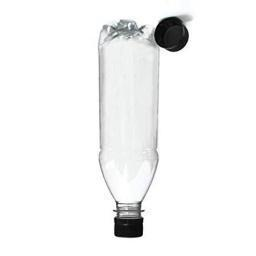plastic: (100, 20, 160, 238)
